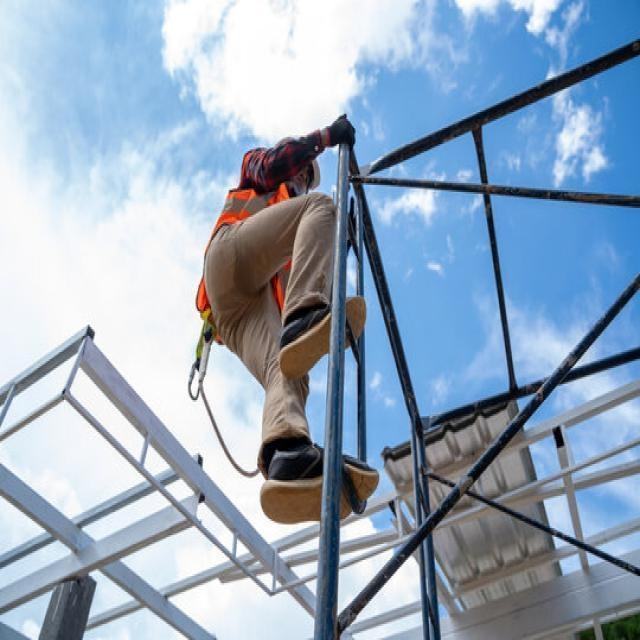Arnes_seguridad: (198, 173, 301, 352)
